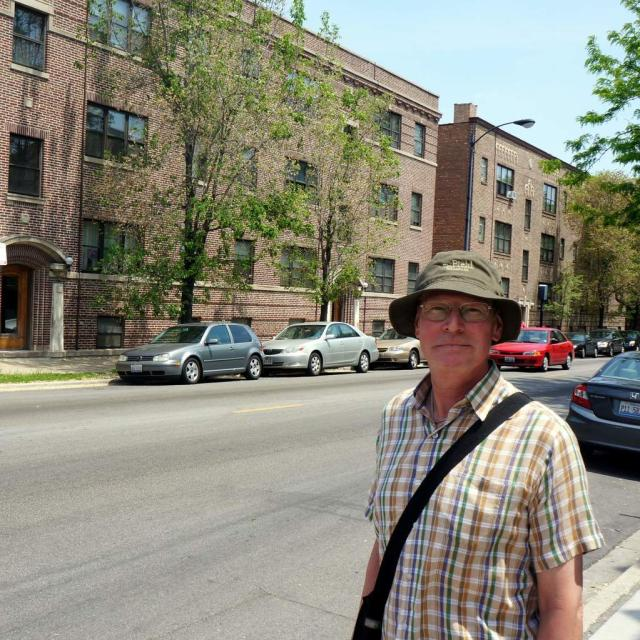Hat: (388, 250, 524, 344)
